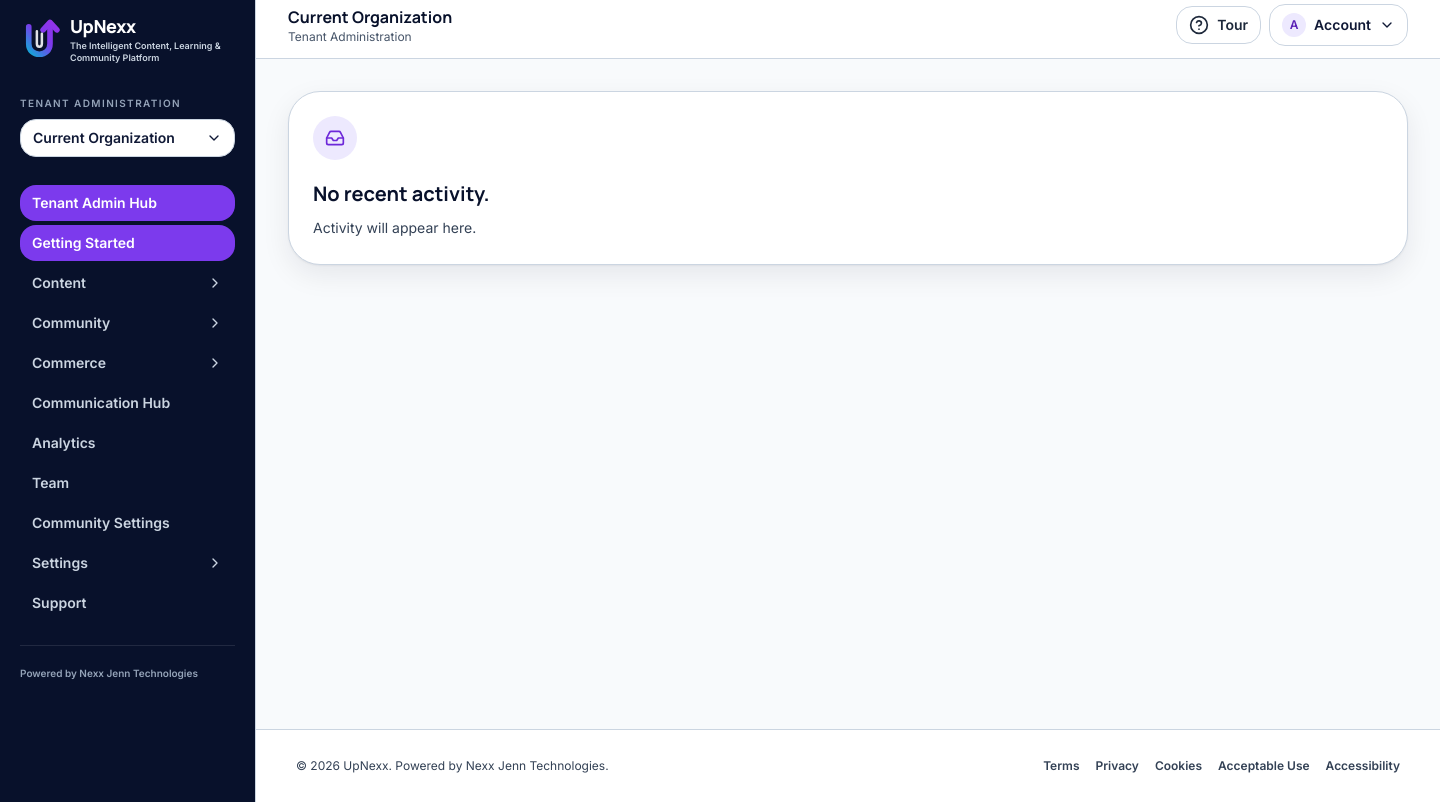
Test: application integration surfaces › expands tenant Content and exposes every live content module
Click the button "Content": (128, 283) x1=20 y1=265 x2=235 y2=301
(page scrolled)
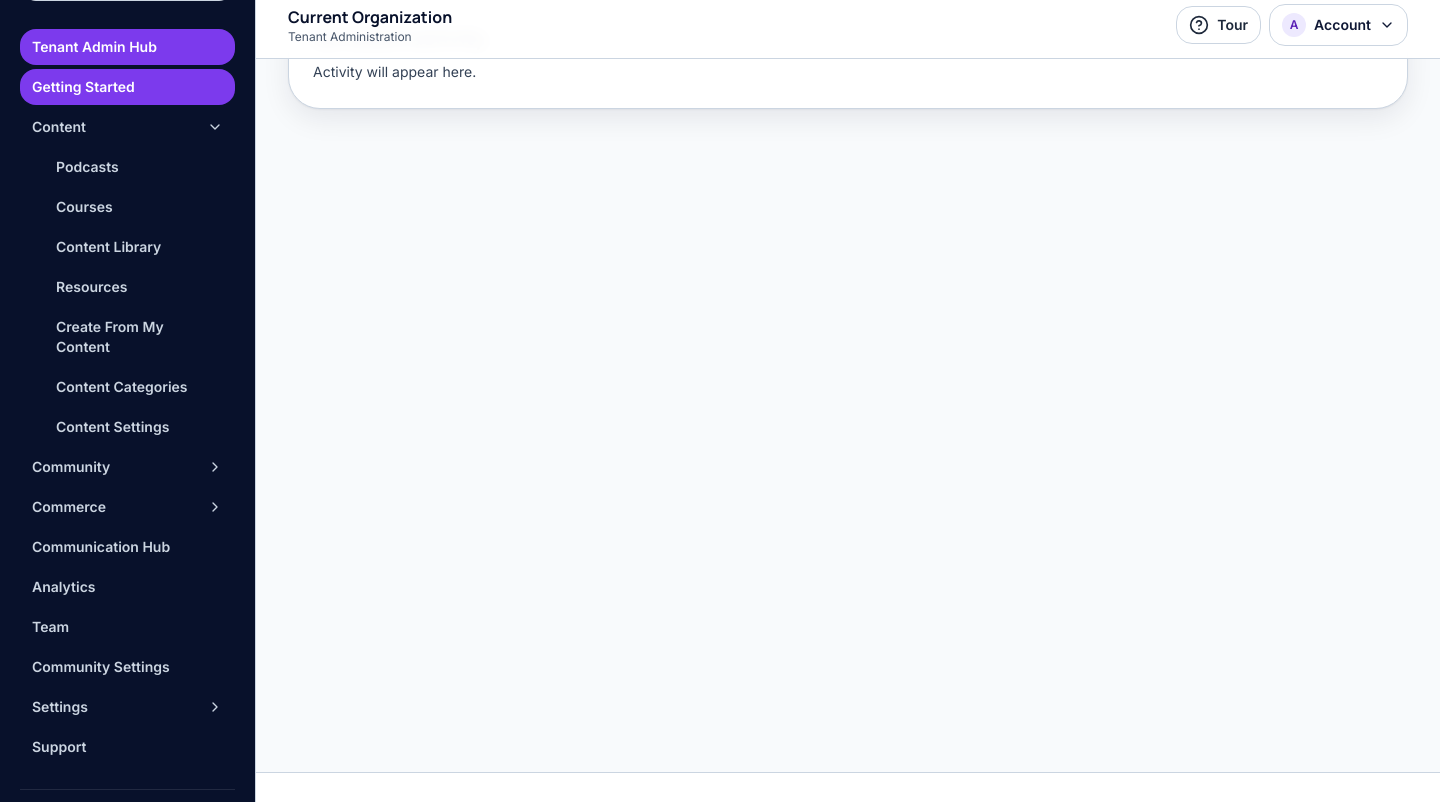
Expected: the button "Content" is expanded, x1=20 y1=109 x2=235 y2=145
Expected: the navigation bar named "Current Organization dashboard navigation" shows "Podcasts", x1=20 y1=149 x2=235 y2=185
Expected: the navigation bar named "Current Organization dashboard navigation" shows "Courses", x1=20 y1=189 x2=235 y2=225
